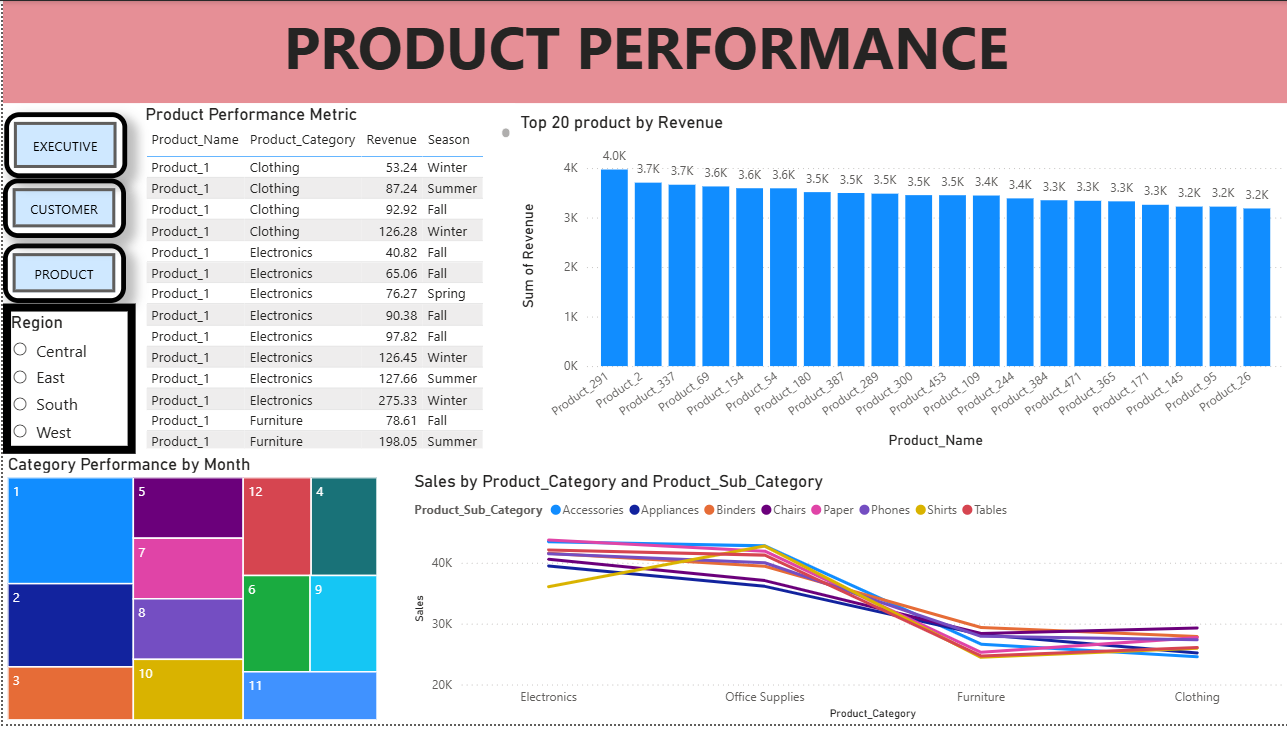

What the dashboard file says about the page in this screenshot:
{"tool":"powerbi","page":{"name":"Product","canvas":[1280,720],"ordinal":2},"visuals":[{"type":"treemap","title":"Category Performance by Month","fields":{"Values":["CountNonNull(cleaned_retail_sales.Product_Category)"],"Group":["cleaned_retail_sales.Month"]},"box":[0,450.1,377.4,270.3],"z":0},{"type":"columnChart","title":"Top 20 product by Revenue ","fields":{"Category":["cleaned_retail_sales.Product_Name"],"Y":["Sum(cleaned_retail_sales.Revenue)"]},"box":[510,110.7,770,339.6],"z":1000},{"type":"lineChart","fields":{"Category":["cleaned_retail_sales.Product_Category"],"Y":["Sum(cleaned_retail_sales.Sales)"],"Series":["cleaned_retail_sales.Product_Sub_Category"]},"box":[404.8,467.9,875.5,252.5],"z":2000},{"type":"textbox","box":[0,0,1280.3,101.5],"z":3000},{"type":"tableEx","title":"Product Performance Metric","fields":{"Values":["cleaned_retail_sales.Product_Name","cleaned_retail_sales.Product_Category","cleaned_retail_sales.Revenue","cleaned_retail_sales.Season"]},"box":[136.8,102,373.2,348.3],"z":4000},{"type":"actionButton","box":[0,241.5,122.1,59],"z":5000},{"type":"actionButton","box":[1.4,111.1,122.1,65.9],"z":6000},{"type":"actionButton","box":[0,177,122.1,59],"z":7000},{"type":"listSlicer","fields":{"Values":["cleaned_retail_sales.Region"]},"box":[0,300.5,131.7,149.6],"z":8000}]}

Visuals, with their boxes in screenshot pixels (x1, y1, x2, y2), scaled from the page's 1280x720 canvas onto the 1287x731 screenshot:
"Category Performance by Month" treemap: (0,457,379,730)
"Top 20 product by Revenue " columnChart: (513,112,1286,457)
lineChart - cleaned_retail_sales.Product_Category x Sum(cleaned_retail_sales.Sales): (407,475,1286,730)
textbox: (0,0,1286,103)
"Product Performance Metric" tableEx: (138,104,513,457)
actionButton: (0,245,123,305)
actionButton: (1,113,124,180)
actionButton: (0,180,123,240)
listSlicer - cleaned_retail_sales.Region: (0,305,132,457)
